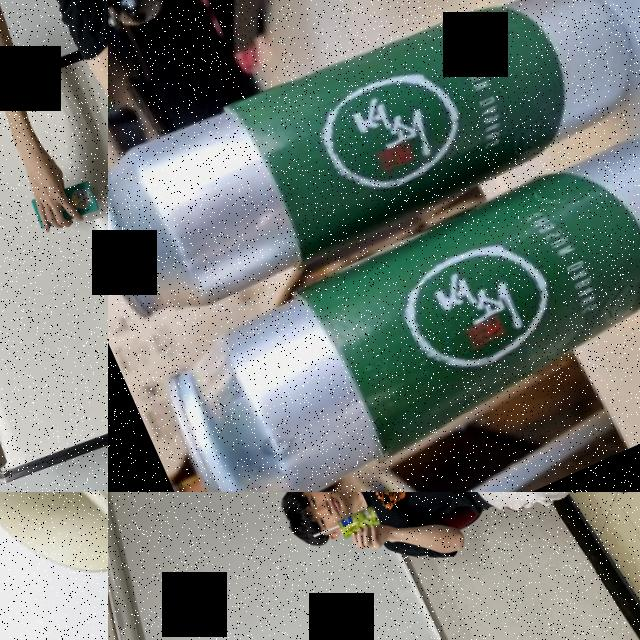can: (144, 110, 640, 492), (108, 0, 640, 343), (336, 503, 382, 540)
cup: (0, 492, 108, 612)
